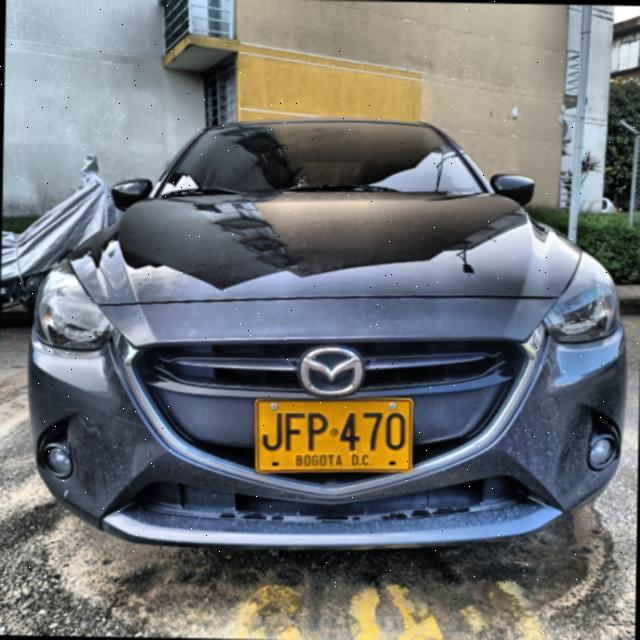0: (384, 410, 406, 451)
4: (338, 410, 361, 451)
7: (361, 410, 383, 450)
F: (284, 410, 305, 452)
J: (259, 410, 283, 452)
P: (306, 411, 329, 451)
